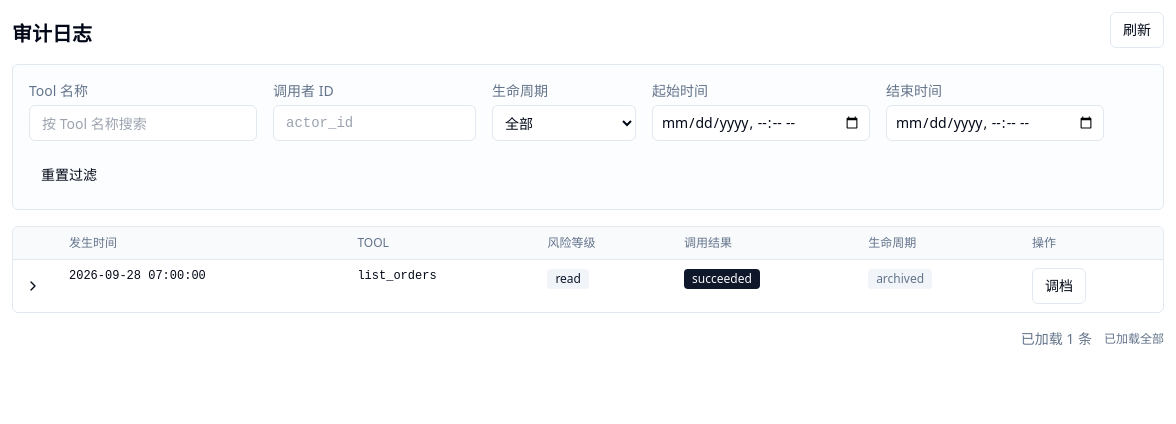
Test: AuditLogsTable › shows a recall error banner when the recall API fails
Expected: the row with test id "audit-log-row-arc" is shown, x1=13 y1=260 x2=1163 y2=312
Click the button with test id "recall-arc".
click(1059, 286)  # box x1=1032 y1=268 x2=1086 y2=304
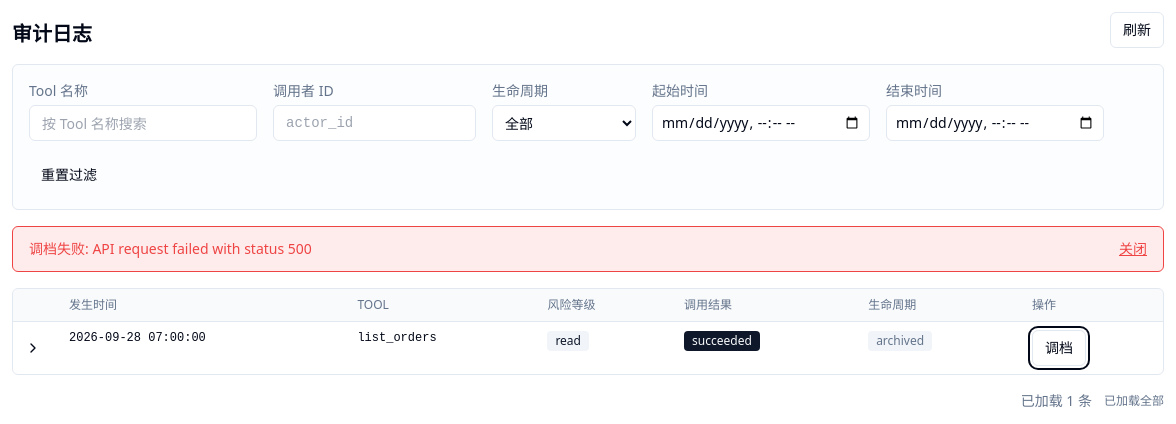
Expected: the message "调档失败: API request failed with status 500 关闭" is shown, x1=12 y1=226 x2=1164 y2=272
